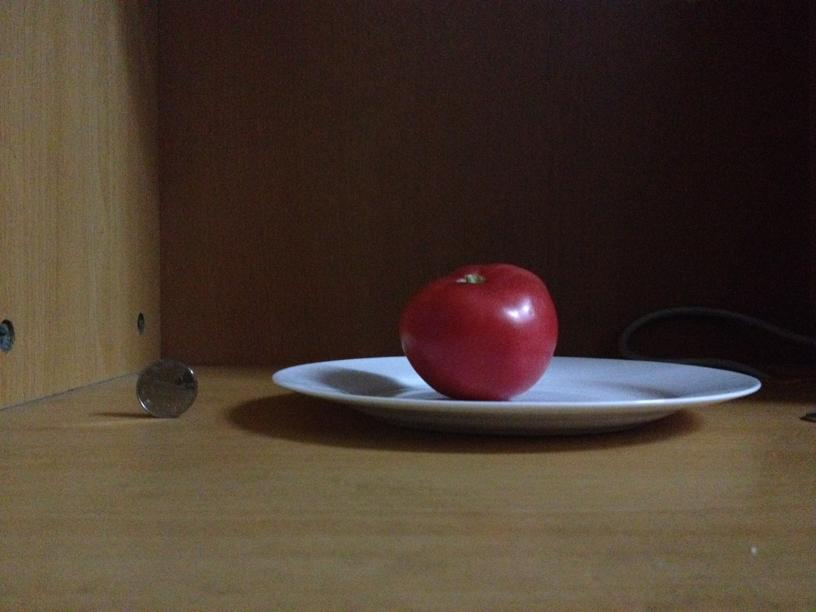coin: (133, 361, 196, 416)
tomato: (395, 260, 560, 401)
